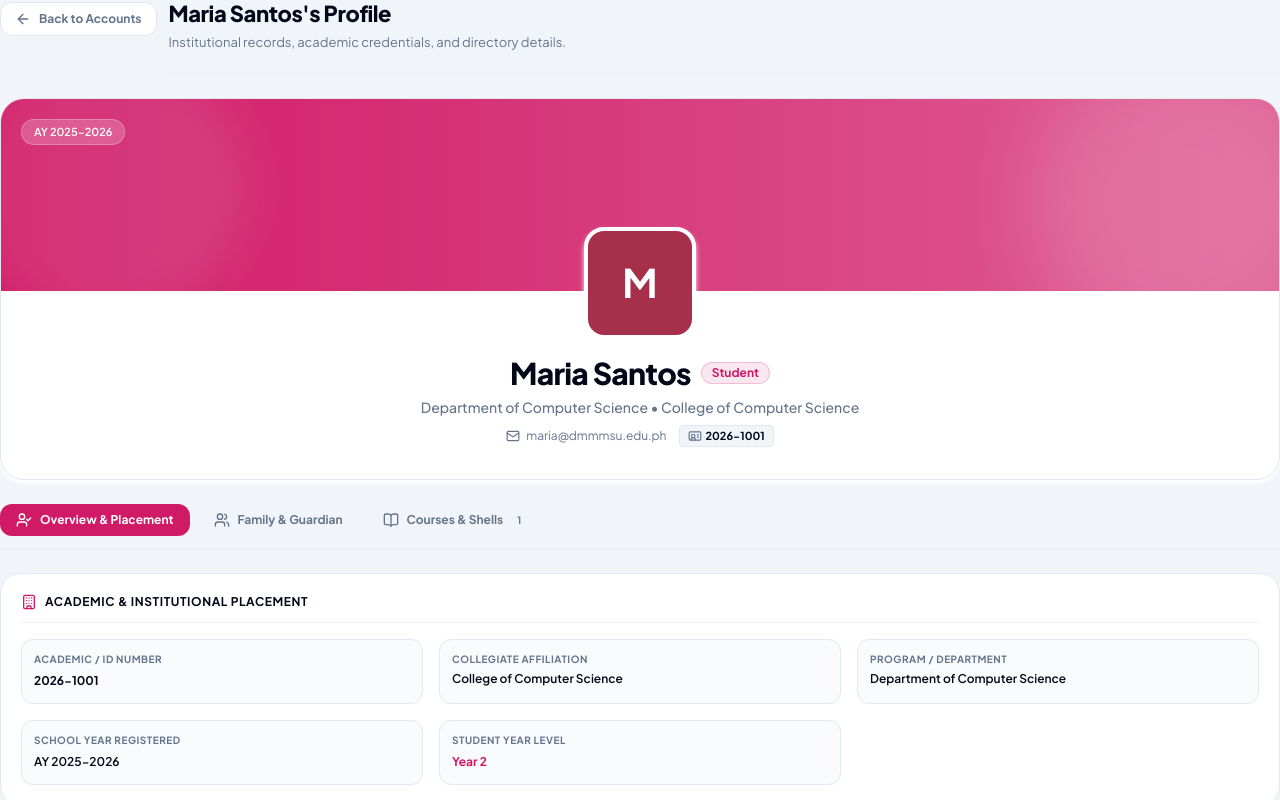
Test: AccountProfilePage Component › switches to Courses tab and displays enrolled courses for student
Step 1. Click the tab "Courses & Shells 1" → (455,520), box [367,504,543,536]
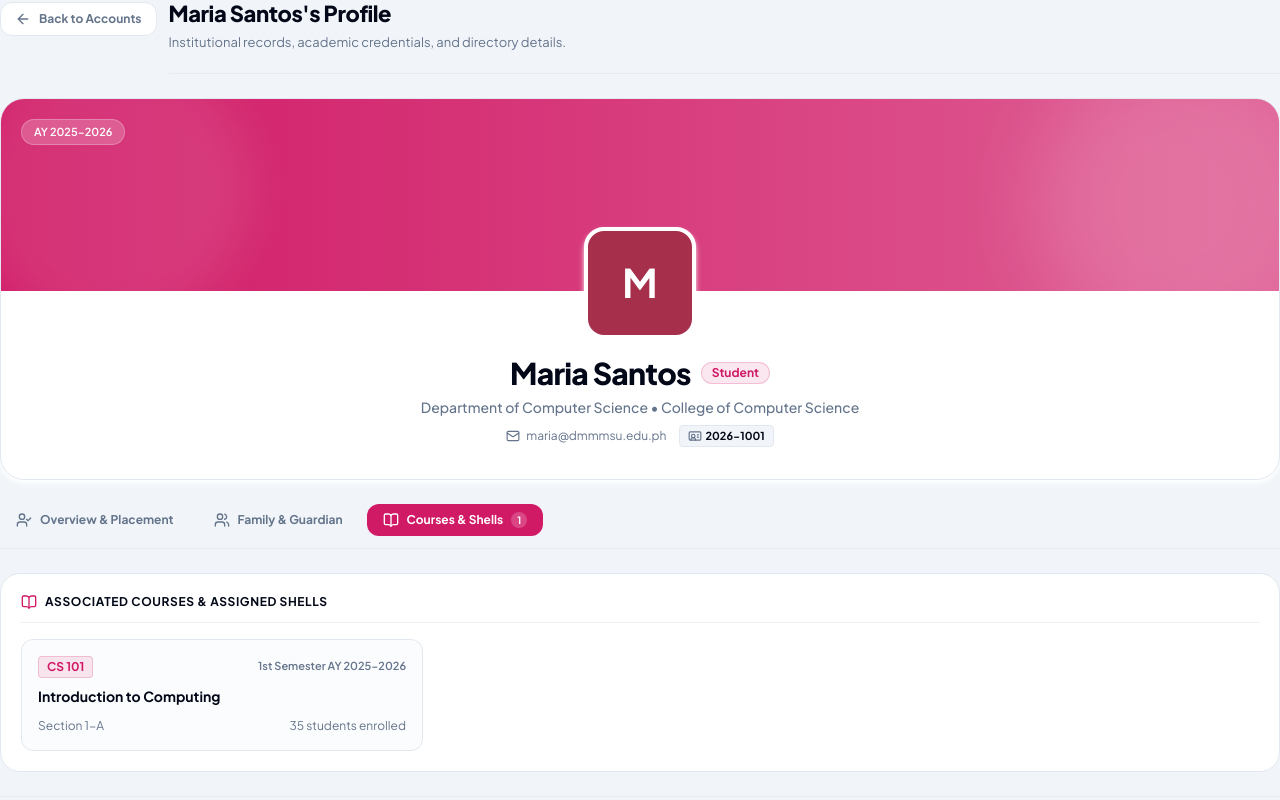
Result: the text "Associated Courses & Assigned Shells" is shown at [45,594,328,610]
Result: the text "CS 101" is shown at [38,656,93,678]
Result: the heading "Introduction to Computing" is shown at [38,687,220,705]
